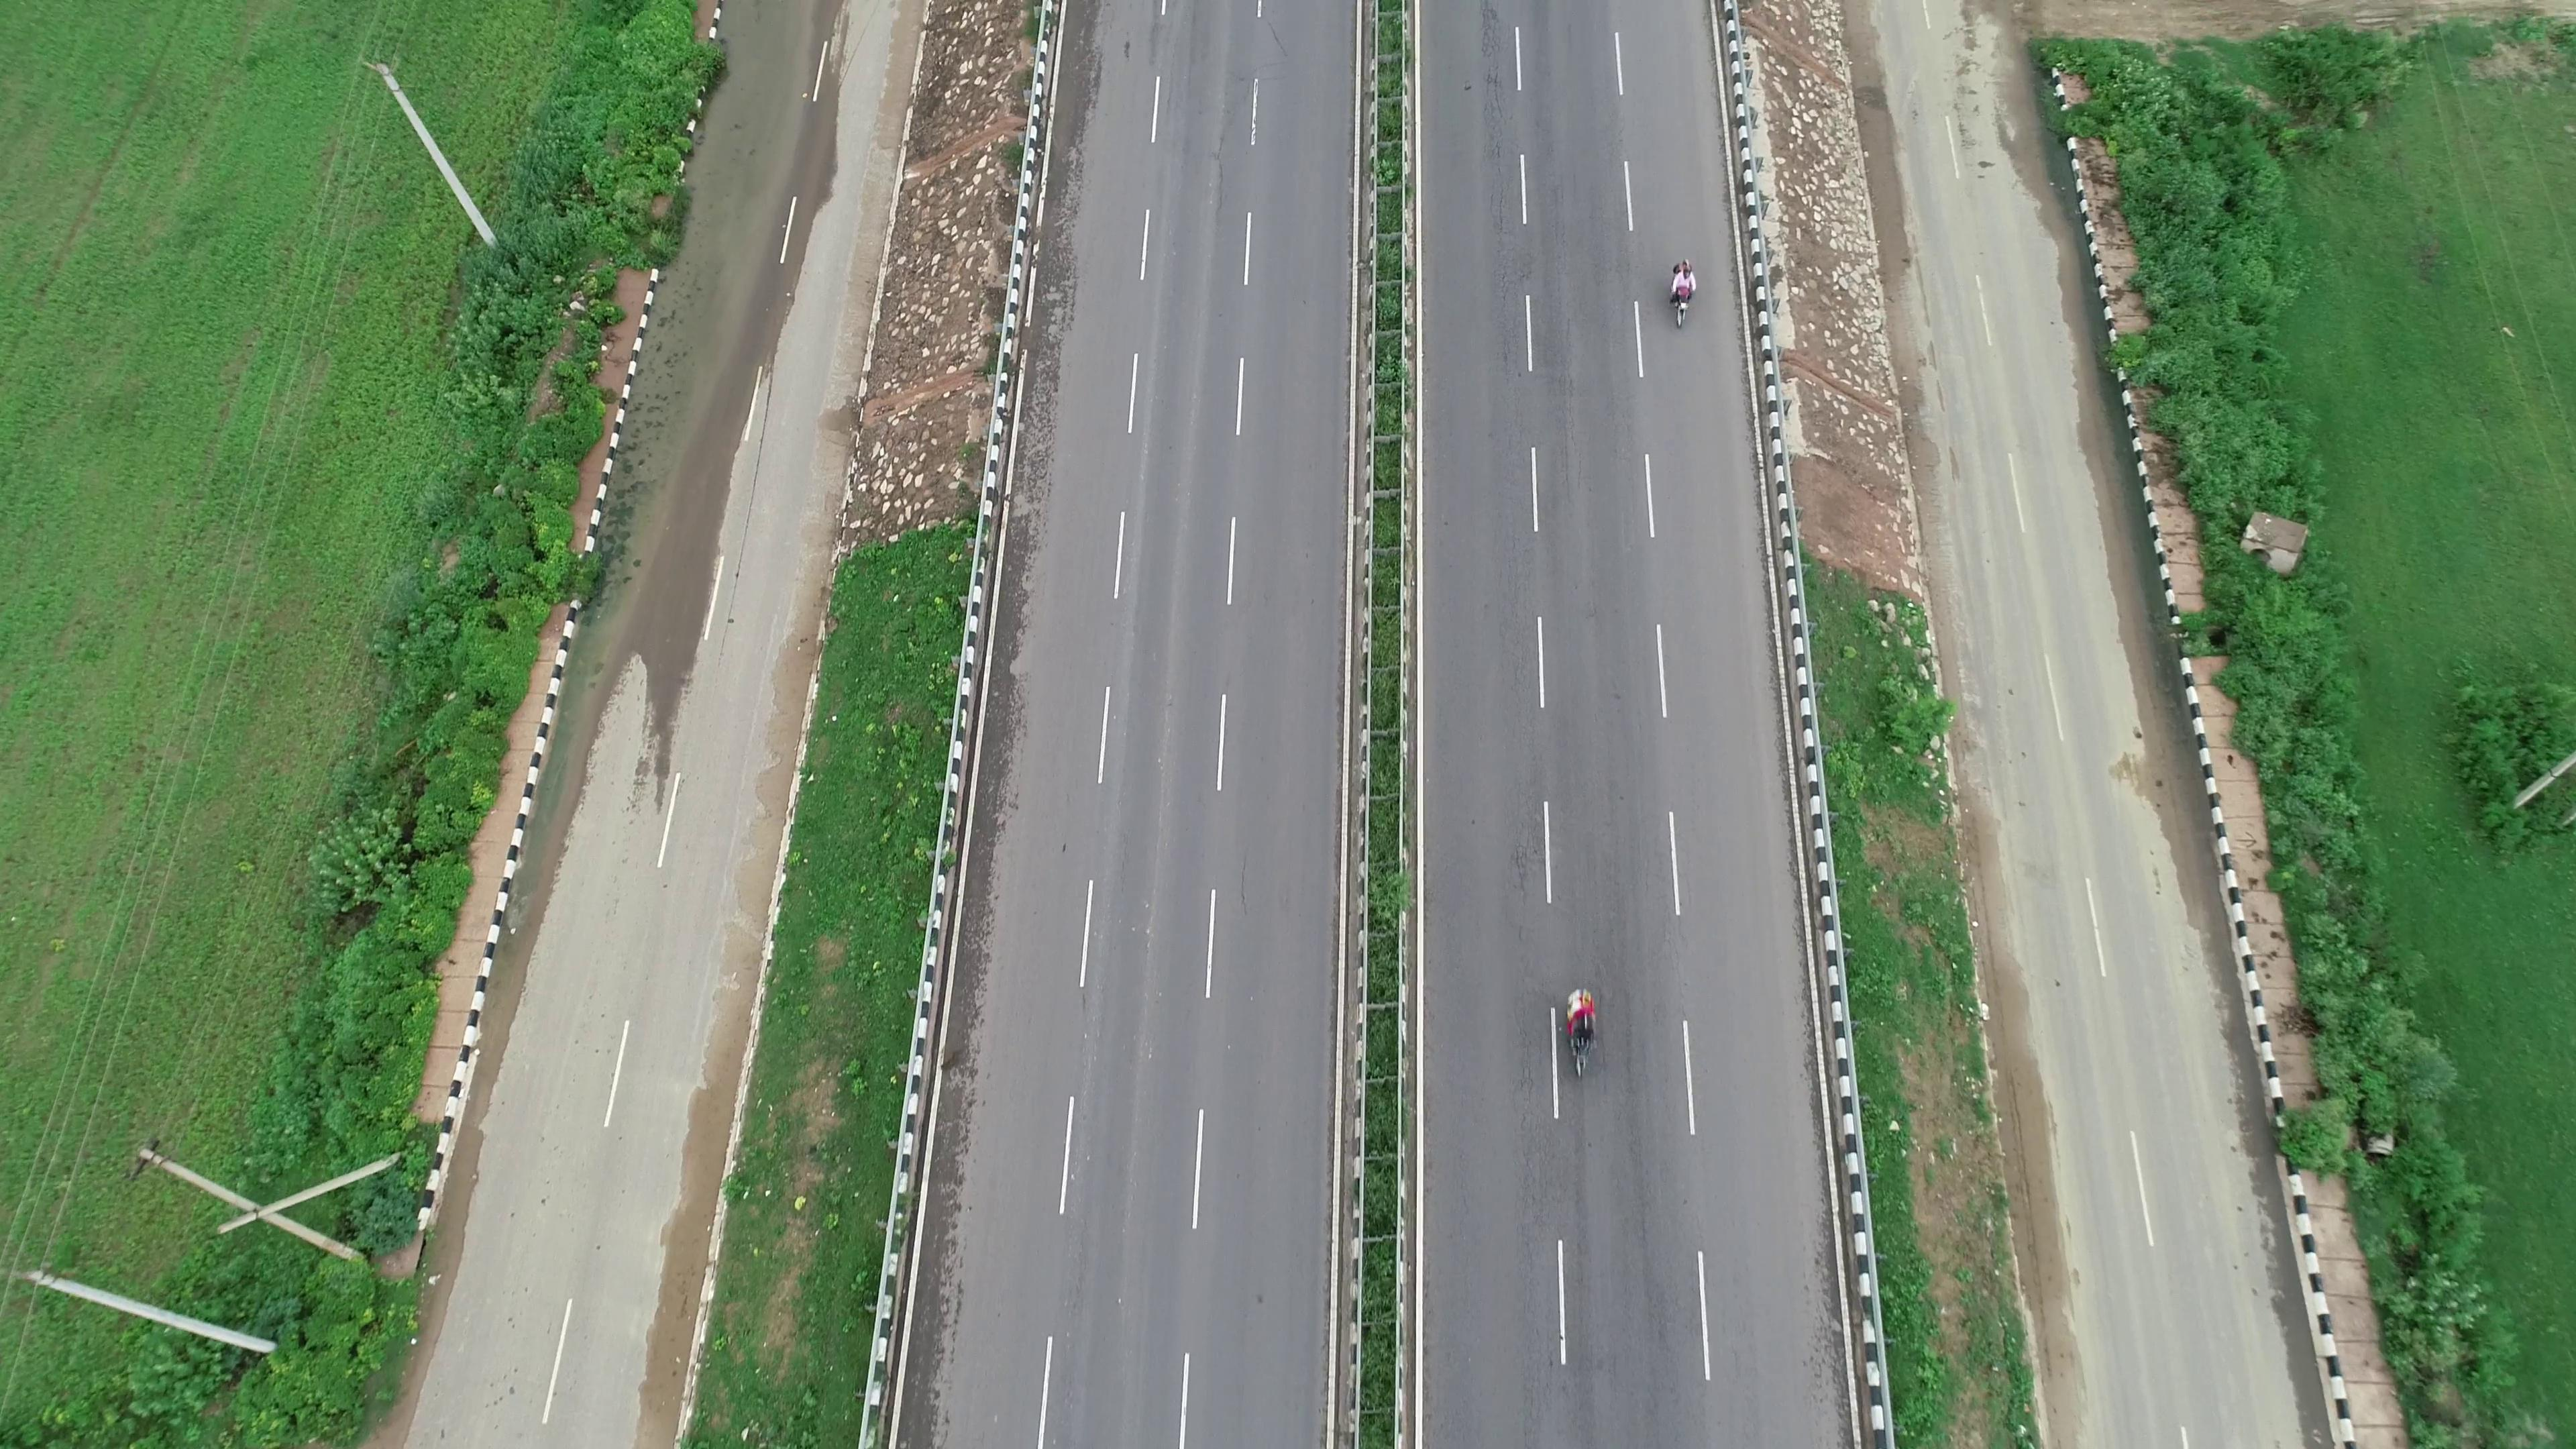Longitudinal_cracks: (1484, 18, 1516, 343)
